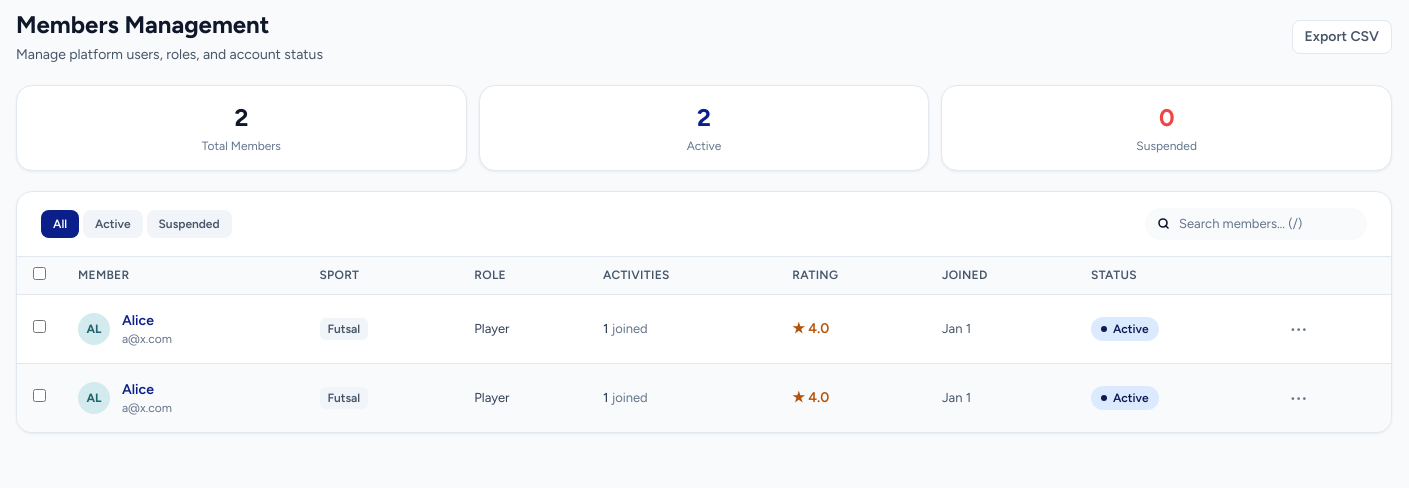
Test case: MembersPage bulk audit fixes › F9: bulk suspend awaits all and shows a failure summary
The image size is (1409, 488).
Click the 2nd checkbox at [40, 326], box [33,320,46,332]
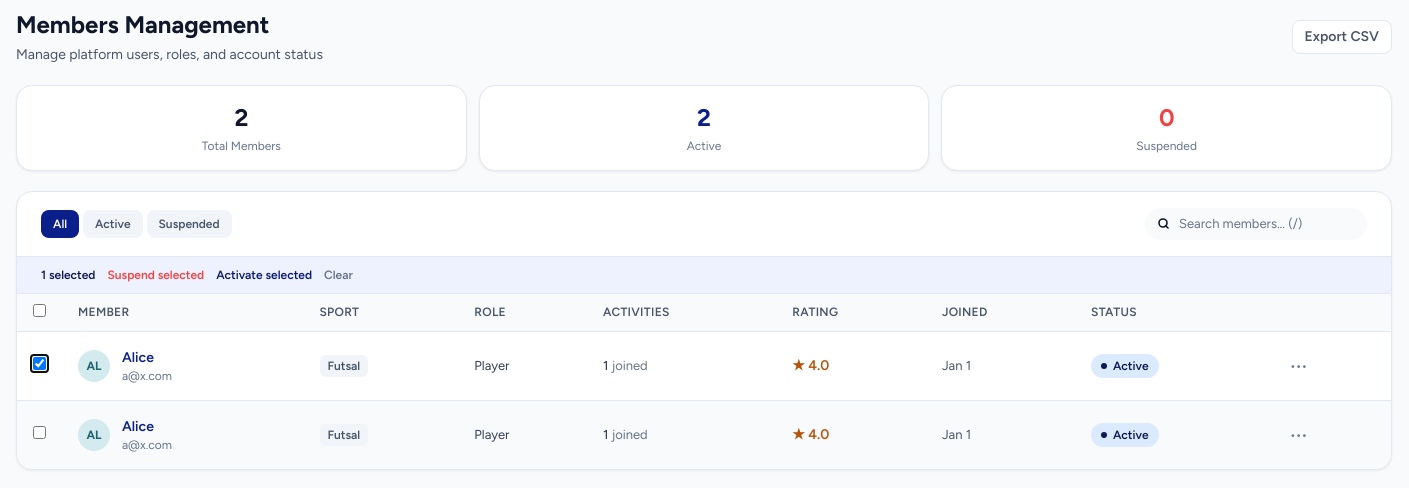
Click the 3rd checkbox at [40, 432], box [33,426,46,438]
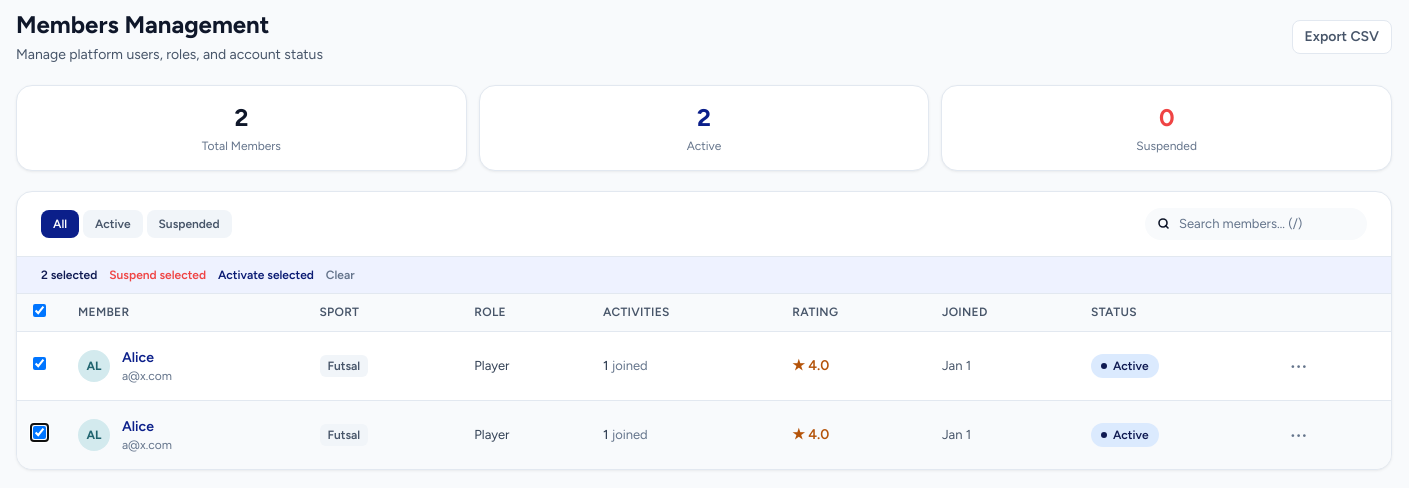
Click the button "Suspend selected" at [158, 274], box [109,266,206,282]
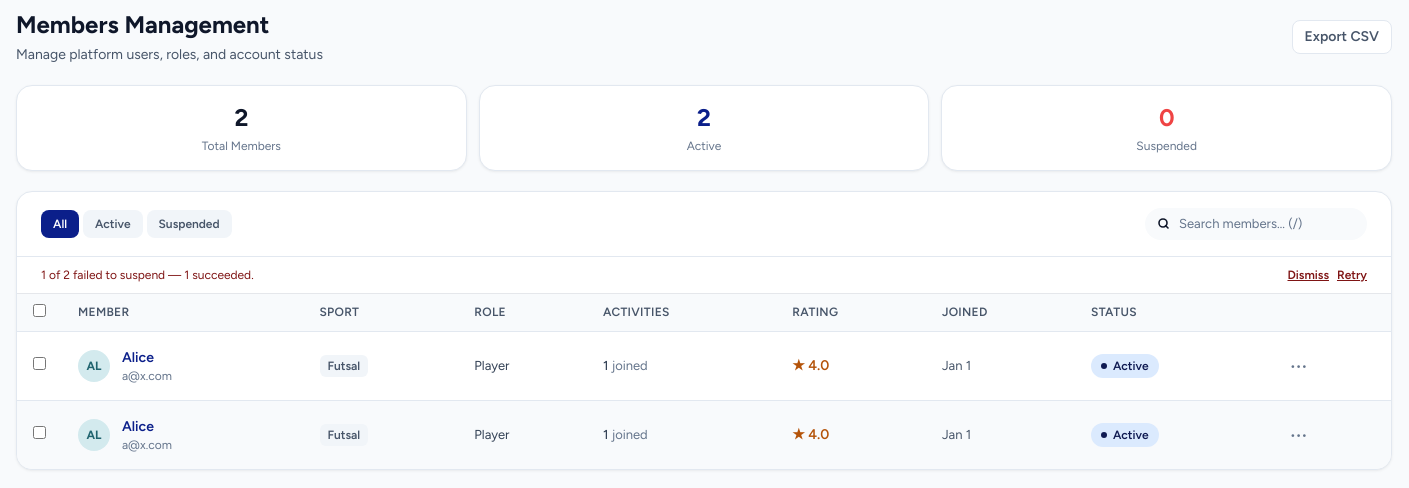
Check: the text "1 of 2 failed to suspend — 1 succeeded." is shown, box [41,268,254,282]
